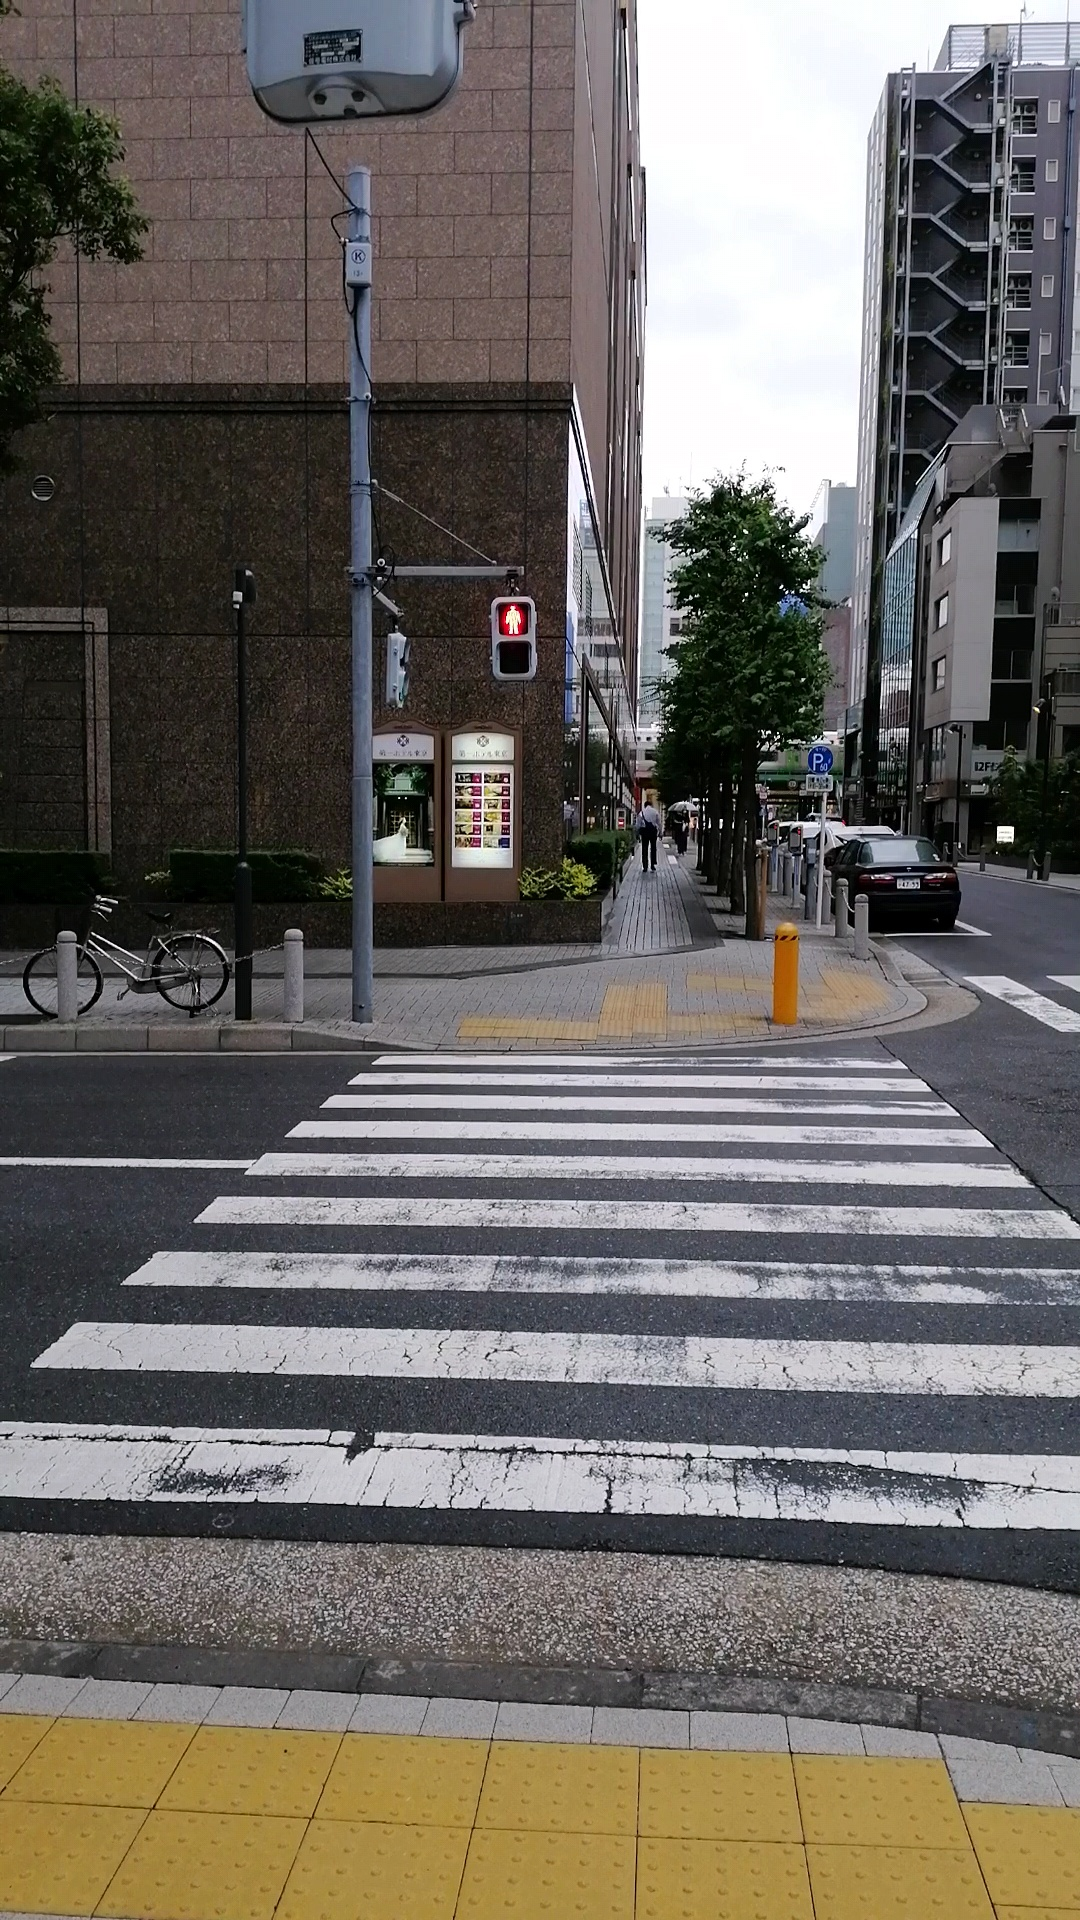red: (489, 593, 535, 682)
